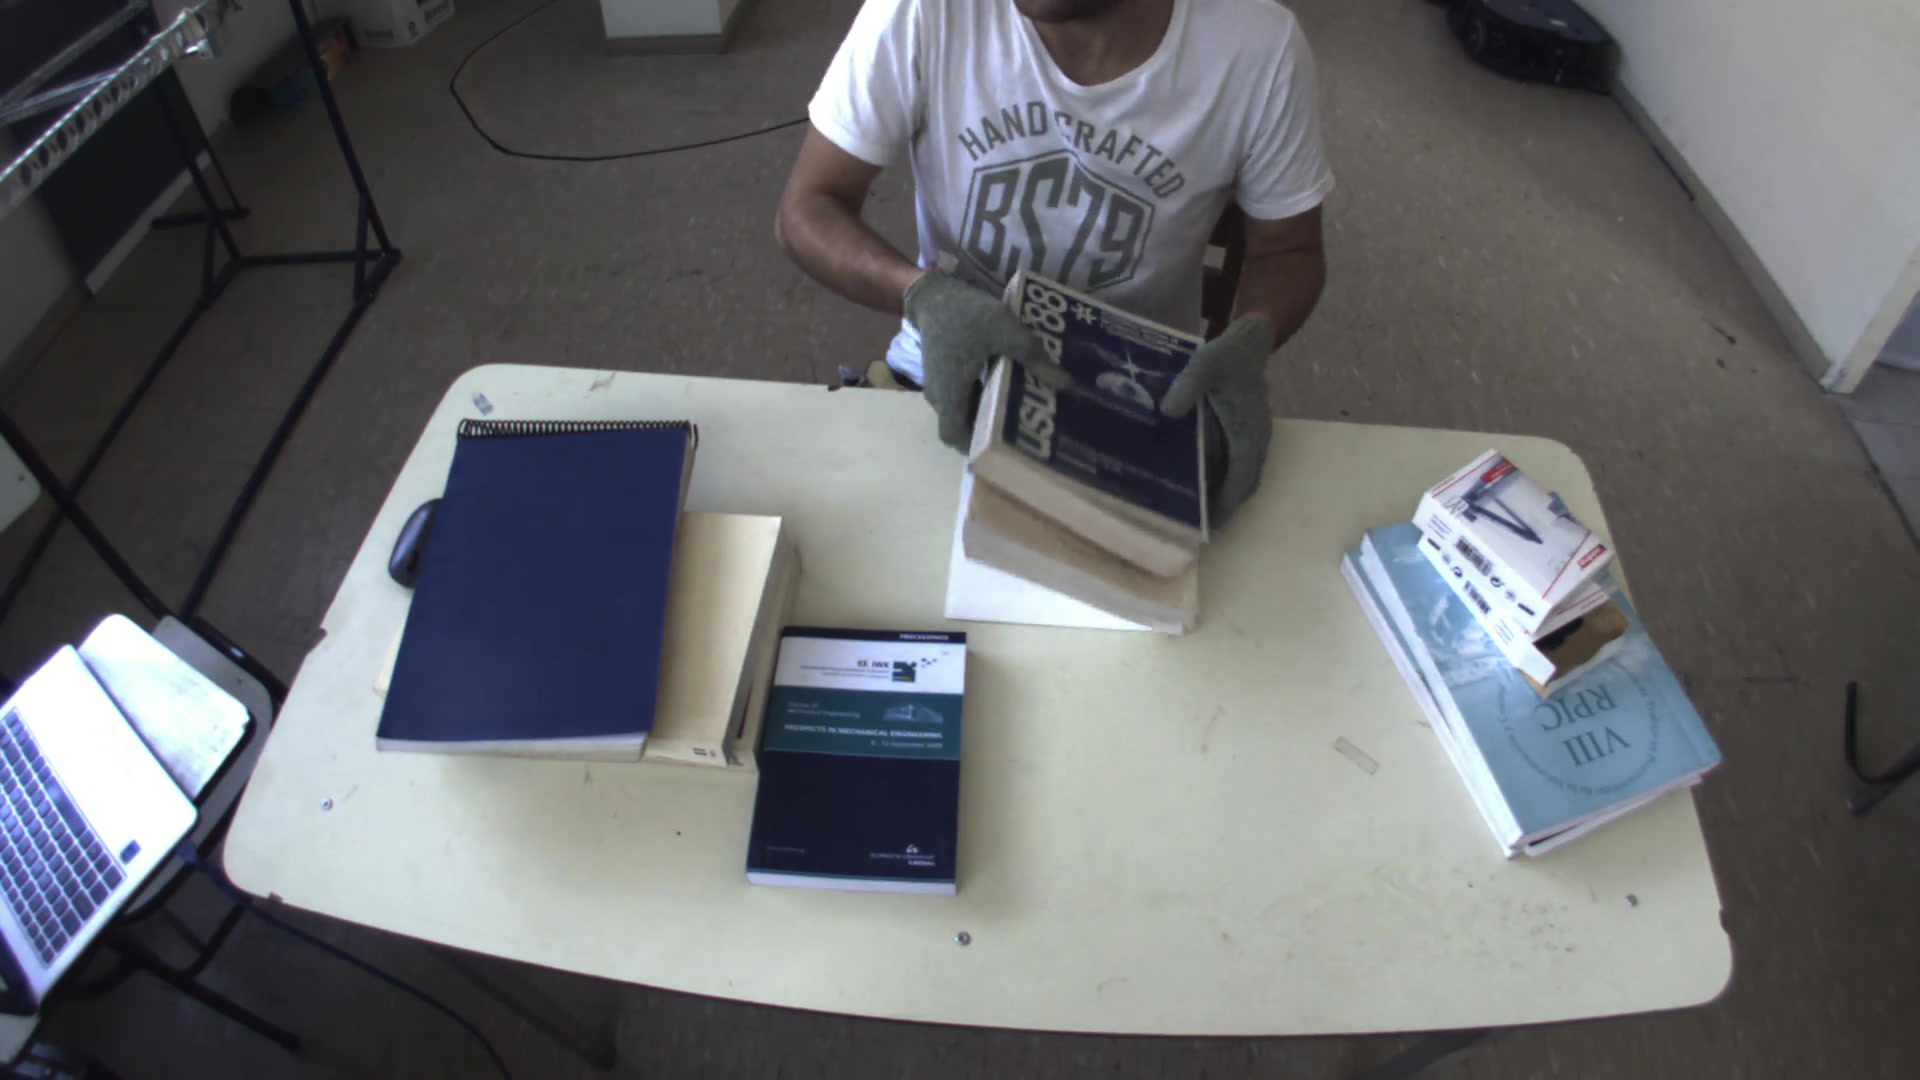hand: (893, 255, 1040, 458), (1153, 314, 1290, 508)
